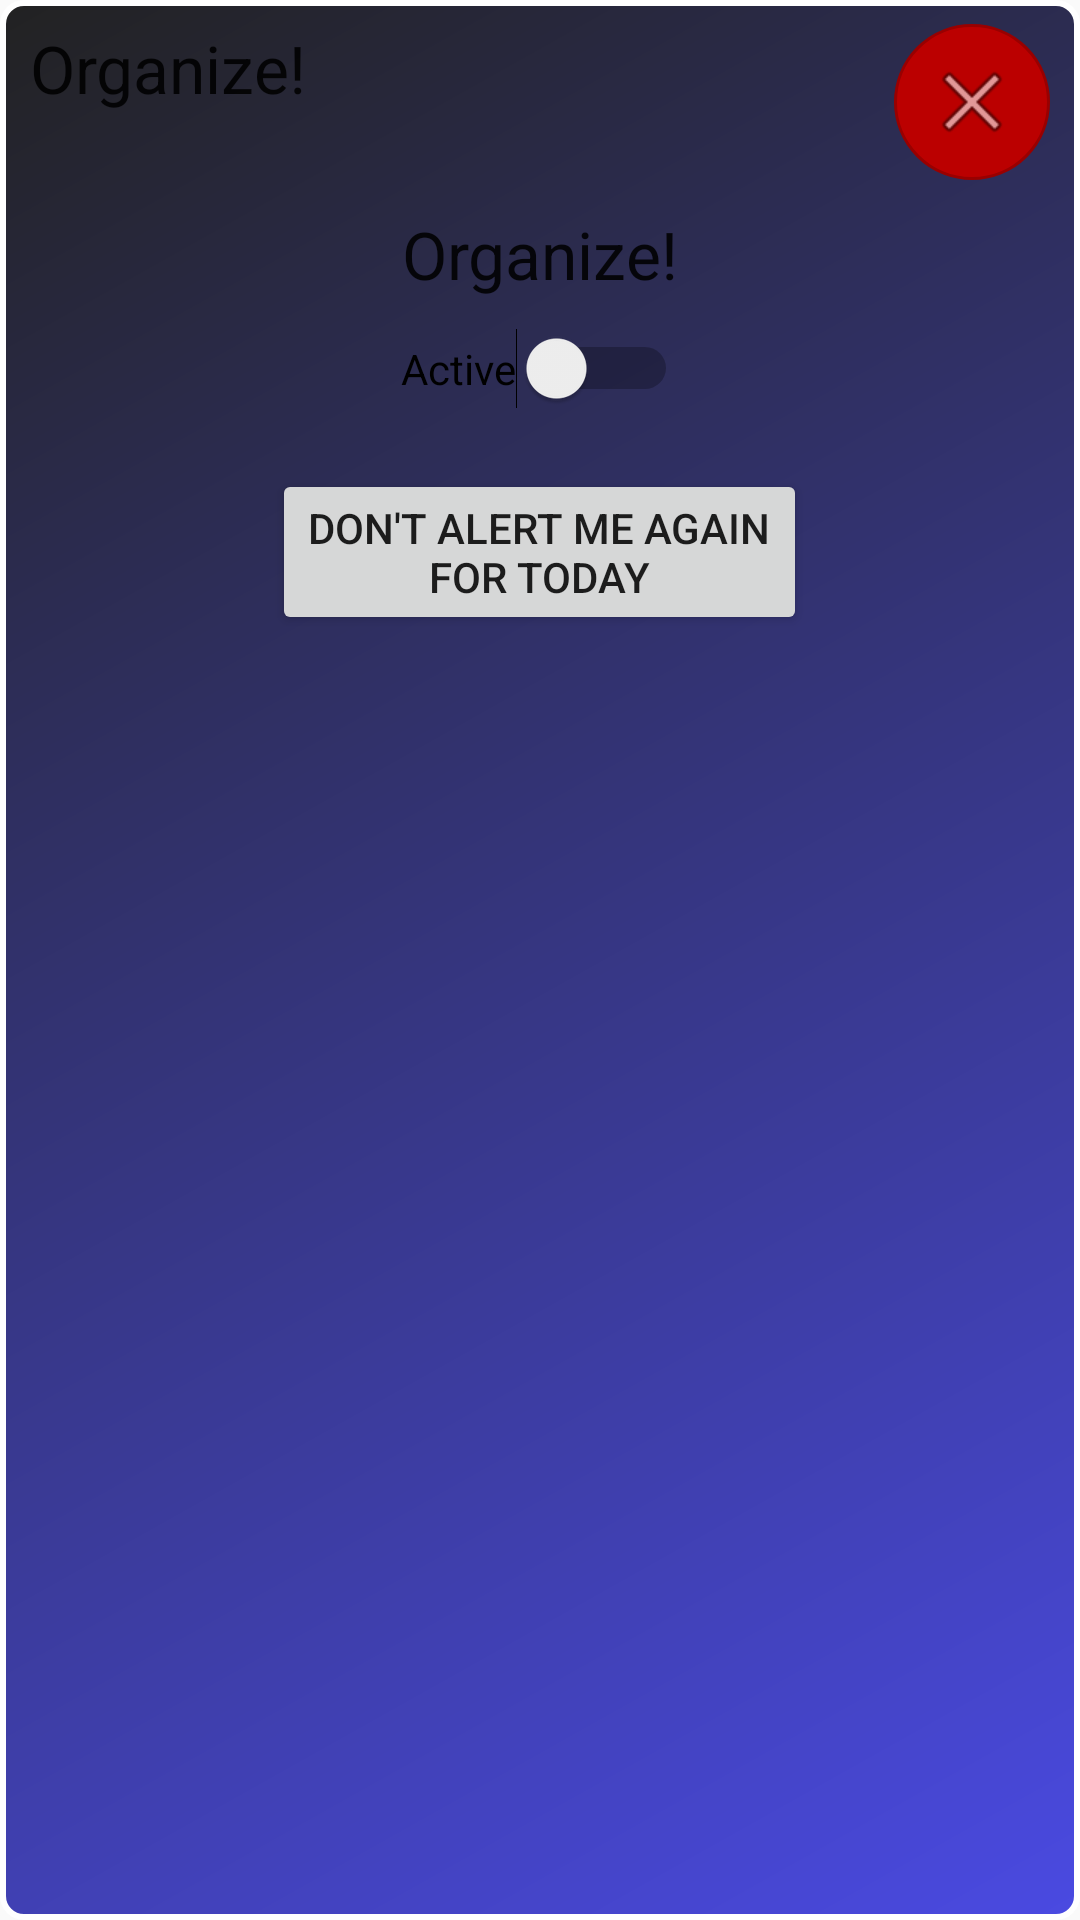

Icons on this 1080*1920 Android screen, each with its box as rect(x1, y1, x2, y2):
Close: rect(894, 24, 1050, 180)
